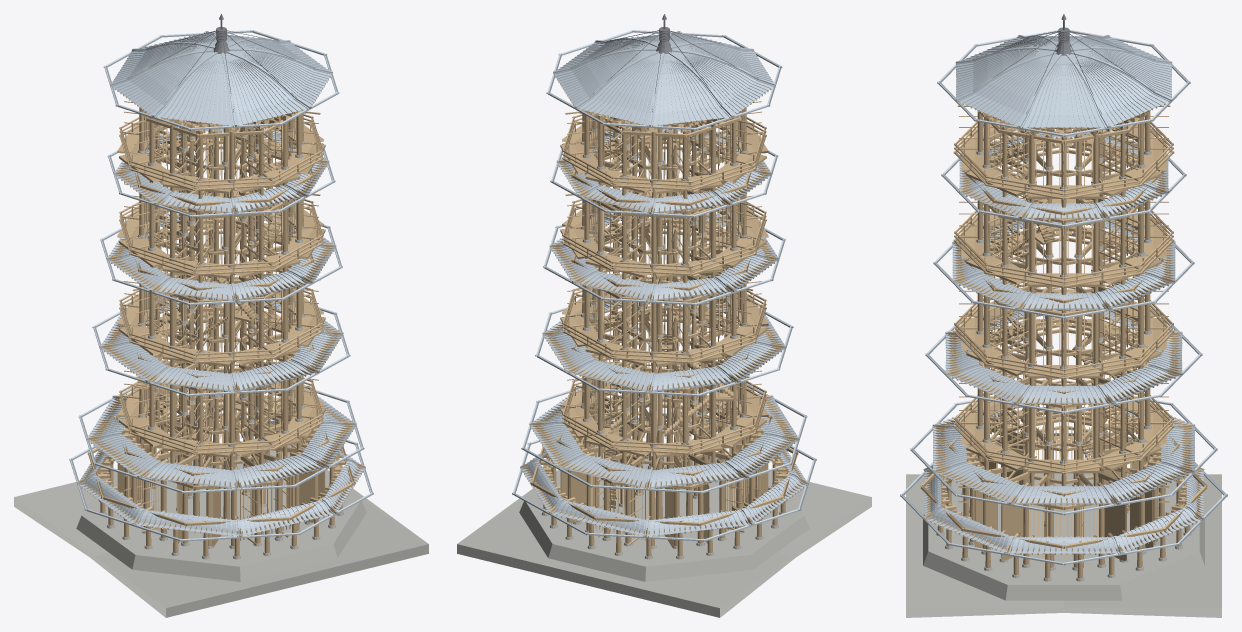
File: pagoda.glb
3 renders of one model, left to right at view 1: azimuth 30°, elevation 25°; view 2: azimuth 150°, elevation 25°; view 3: azimuth 270°, elevation 25°, orthographic. The views are drawn at different scales.
Visible parts, largest first — view 1: 台基_台基_石, 五层_瓦面_浅蓝灰, 二层_木构件_米黄浅棕, 三层_木构件_米黄浅棕, 四层_木构件_米黄浅棕, 一层_木构件_米黄浅棕, 五层_木构件_米黄浅棕, 一层_瓦面_浅蓝灰, 二层_瓦面_浅蓝灰, 副阶_瓦面_浅蓝灰, 三层_瓦面_浅蓝灰, 副阶_木构件_米黄浅棕 (+6 smaller); view 2: 台基_台基_石, 五层_瓦面_浅蓝灰, 二层_木构件_米黄浅棕, 三层_木构件_米黄浅棕, 四层_木构件_米黄浅棕, 一层_木构件_米黄浅棕, 五层_木构件_米黄浅棕, 一层_瓦面_浅蓝灰, 二层_瓦面_浅蓝灰, 副阶_瓦面_浅蓝灰, 三层_瓦面_浅蓝灰, 副阶_木构件_米黄浅棕 (+6 smaller); view 3: 台基_台基_石, 五层_瓦面_浅蓝灰, 二层_木构件_米黄浅棕, 三层_木构件_米黄浅棕, 四层_木构件_米黄浅棕, 一层_木构件_米黄浅棕, 五层_木构件_米黄浅棕, 一层_瓦面_浅蓝灰, 二层_瓦面_浅蓝灰, 副阶_瓦面_浅蓝灰, 三层_瓦面_浅蓝灰, 副阶_木构件_米黄浅棕 (+6 smaller).
Part boxes in pixels (x1,y1,x2,y2): 台基_台基_石: (14,438,428,617); 五层_瓦面_浅蓝灰: (103,30,339,130); 二层_木构件_米黄浅棕: (99,297,343,457); 三层_木构件_米黄浅棕: (106,211,335,366); 四层_木构件_米黄浅棕: (113,124,327,278); 一层_木构件_米黄浅棕: (86,388,355,547); 五层_木构件_米黄浅棕: (110,72,332,193); 一层_瓦面_浅蓝灰: (78,384,364,493); 二层_瓦面_浅蓝灰: (92,296,350,396); 副阶_瓦面_浅蓝灰: (69,411,373,541); 三层_瓦面_浅蓝灰: (100,210,342,305); 副阶_木构件_米黄浅棕: (77,411,365,556); 台基_台基_石: (457,438,871,617); 五层_瓦面_浅蓝灰: (546,30,782,130); 二层_木构件_米黄浅棕: (542,297,786,457); 三层_木构件_米黄浅棕: (550,211,779,366); 四层_木构件_米黄浅棕: (558,124,772,278); 一层_木构件_米黄浅棕: (530,388,799,547); 五层_木构件_米黄浅棕: (553,72,775,193); 一层_瓦面_浅蓝灰: (521,383,807,493); 二层_瓦面_浅蓝灰: (535,296,793,396); 副阶_瓦面_浅蓝灰: (512,411,816,541); 三层_瓦面_浅蓝灰: (543,210,785,305); 副阶_木构件_米黄浅棕: (520,411,808,556); 台基_台基_石: (906,473,1221,617); 五层_瓦面_浅蓝灰: (937,30,1190,136); 二层_木构件_米黄浅棕: (945,310,1182,474); 三层_木构件_米黄浅棕: (952,218,1175,379); 四层_木构件_米黄浅棕: (953,129,1174,287); 一层_木构件_米黄浅棕: (932,404,1195,568); 五层_木构件_米黄浅棕: (953,65,1174,199); 一层_瓦面_浅蓝灰: (910,399,1217,515); 二层_瓦面_浅蓝灰: (925,309,1202,413); 副阶_瓦面_浅蓝灰: (900,432,1227,565); 三层_瓦面_浅蓝灰: (933,218,1194,318); 副阶_木构件_米黄浅棕: (920,426,1207,578).
Size of what is drawn, in the model's own units: 35.25 by 63.75 by 35.25.
